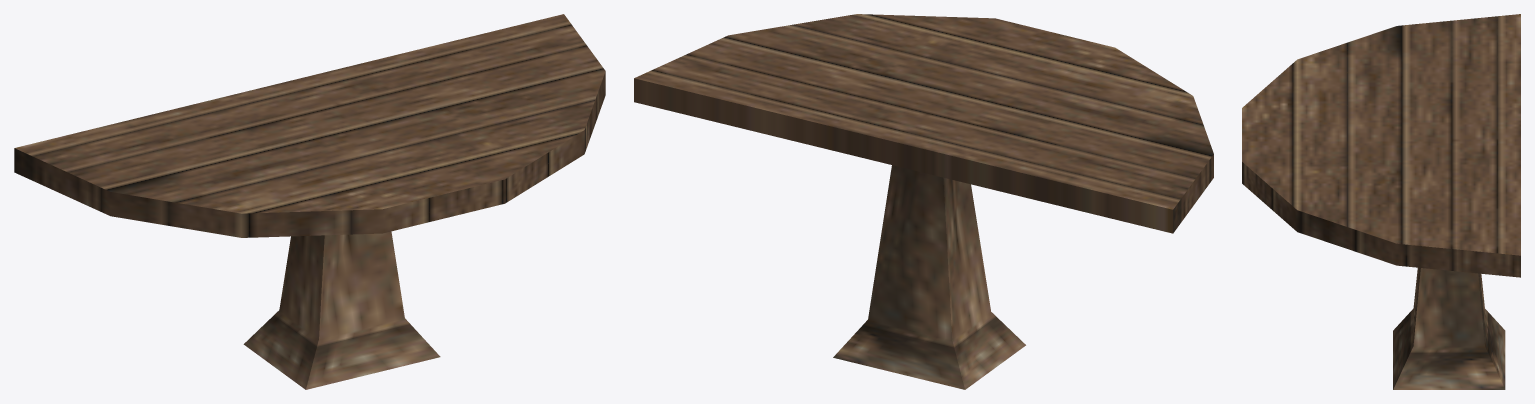
3 views of the same model, side by side, from view 1: azimuth 30°, elevation 25°; view 2: azimuth 150°, elevation 25°; view 3: azimuth 270°, elevation 25° (orthographic). The views are drawn at different scales.
Visible parts, largest first — view 1: a47; view 2: a47; view 3: a47.
Part boxes in pixels (box(x1,y1,x2,y2)): a47: box(14, 14, 605, 389); a47: box(634, 14, 1213, 389); a47: box(1242, 14, 1520, 389).
Bounding box in the file's own units: 517 × 219 × 252.
